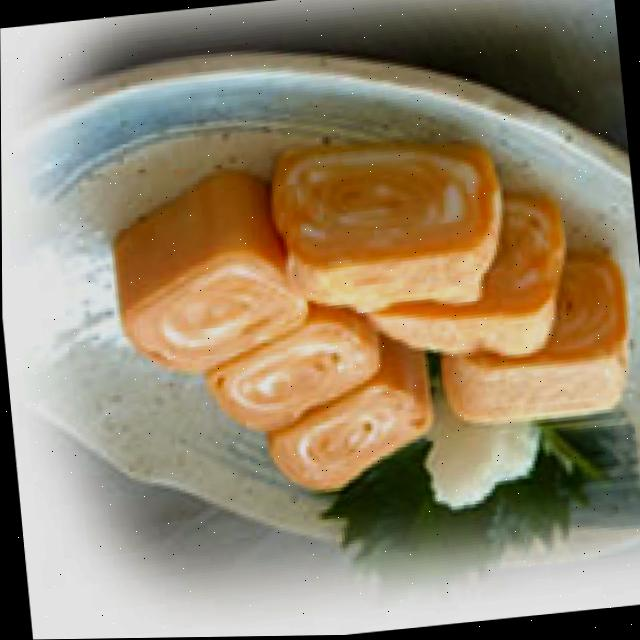鸡蛋料理: (96, 115, 640, 519)
